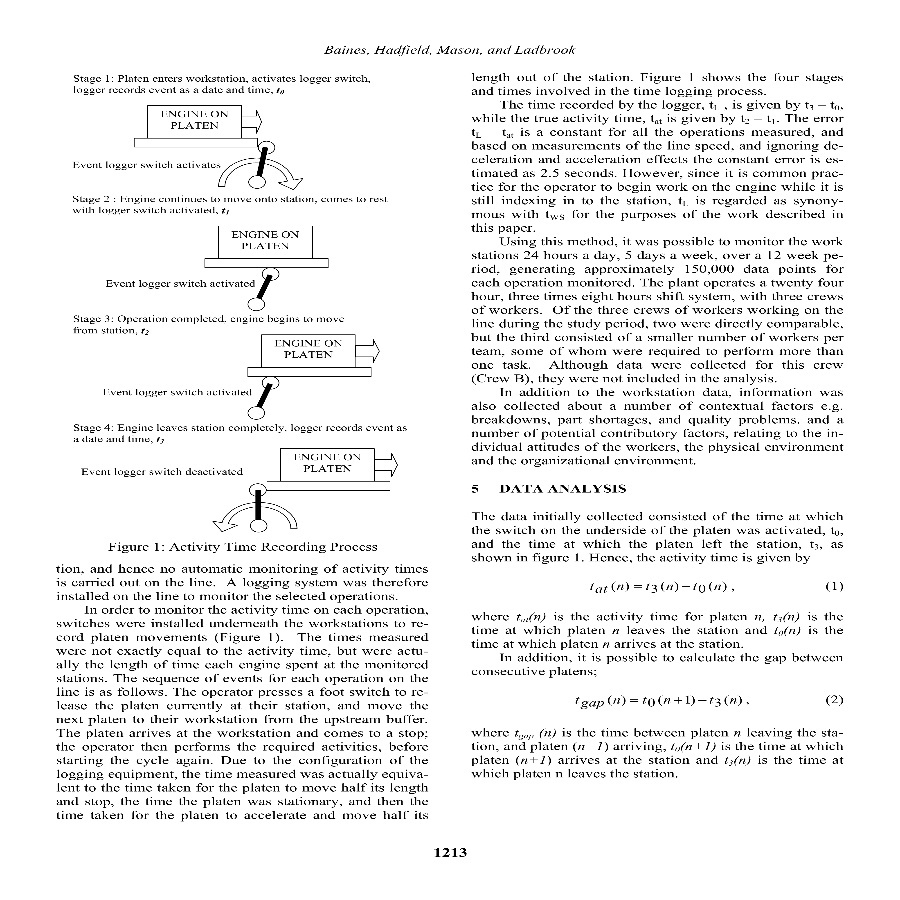eq: (569, 687, 742, 714), (585, 577, 730, 600)
